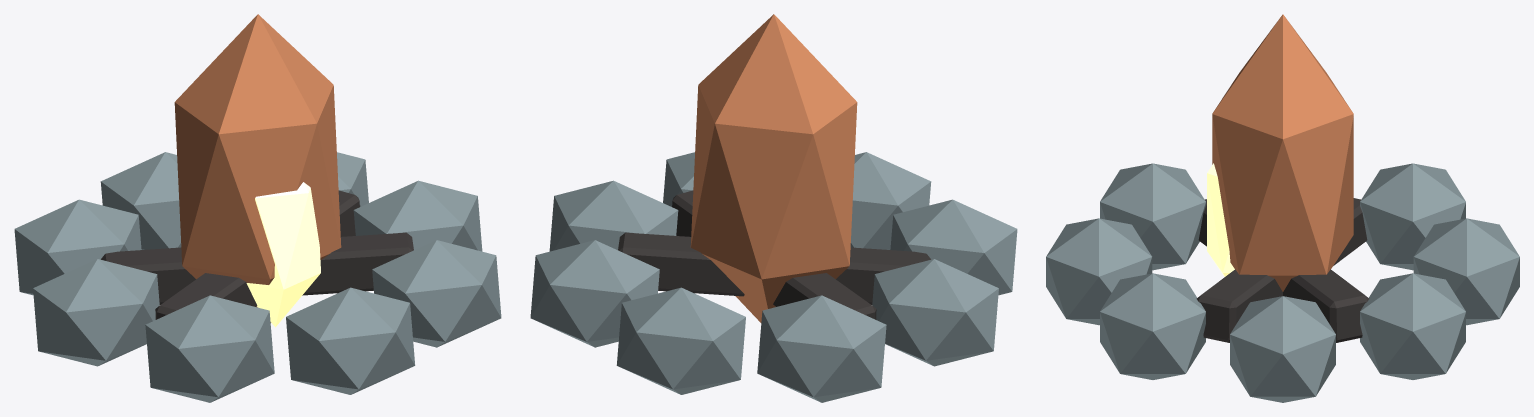
The model's file is campfire.glb.
3 renders of one model, left to right at view 1: azimuth 30°, elevation 25°; view 2: azimuth 150°, elevation 25°; view 3: azimuth 270°, elevation 25°, orthographic.
Visible parts, largest first — view 1: flame, hearth-stone.005, hearth-stone.006, hearth-stone.004, hearth-stone.007, hearth-stone.003, flame-core, hearth-stone, firewood.001, hearth-stone.002, firewood, hearth-stone.001; view 2: flame, hearth-stone.003, hearth-stone.002, hearth-stone.004, hearth-stone.001, hearth-stone.005, firewood, hearth-stone, hearth-stone.006, firewood.001, hearth-stone.007; view 3: flame, hearth-stone, hearth-stone.001, hearth-stone.007, hearth-stone.002, hearth-stone.006, hearth-stone.003, hearth-stone.005, firewood.001, firewood, flame-core.
Boxes of the visible parts, x1=… form: flame: x1=174, y1=14, x2=341, y2=322; hearth-stone.005: x1=145, y1=295, x2=274, y2=402; hearth-stone.006: x1=286, y1=287, x2=415, y2=394; hearth-stone.004: x1=33, y1=259, x2=159, y2=366; hearth-stone.007: x1=372, y1=240, x2=501, y2=347; hearth-stone.003: x1=14, y1=199, x2=141, y2=295; flame-core: x1=246, y1=182, x2=320, y2=327; hearth-stone: x1=353, y1=180, x2=482, y2=251; firewood.001: x1=101, y1=232, x2=413, y2=304; hearth-stone.002: x1=100, y1=152, x2=181, y2=249; firewood: x1=155, y1=190, x2=359, y2=319; hearth-stone.001: x1=337, y1=152, x2=368, y2=206; flame: x1=690, y1=14, x2=857, y2=322; hearth-stone.003: x1=757, y1=295, x2=886, y2=402; hearth-stone.002: x1=616, y1=287, x2=745, y2=394; hearth-stone.004: x1=872, y1=259, x2=998, y2=366; hearth-stone.001: x1=530, y1=240, x2=659, y2=347; hearth-stone.005: x1=890, y1=199, x2=1017, y2=295; firewood: x1=618, y1=232, x2=930, y2=304; hearth-stone: x1=549, y1=180, x2=678, y2=251; hearth-stone.006: x1=850, y1=152, x2=931, y2=249; firewood.001: x1=672, y1=190, x2=876, y2=319; hearth-stone.007: x1=663, y1=152, x2=694, y2=206; flame: x1=1212, y1=14, x2=1353, y2=291; hearth-stone: x1=1230, y1=296, x2=1335, y2=402; hearth-stone.001: x1=1360, y1=273, x2=1465, y2=379; hearth-stone.007: x1=1100, y1=273, x2=1205, y2=379; hearth-stone.002: x1=1413, y1=218, x2=1519, y2=325; hearth-stone.006: x1=1046, y1=218, x2=1152, y2=325; hearth-stone.003: x1=1360, y1=163, x2=1465, y2=270; hearth-stone.005: x1=1100, y1=163, x2=1205, y2=270; firewood.001: x1=1196, y1=198, x2=1367, y2=342; firewood: x1=1198, y1=199, x2=1369, y2=342; flame-core: x1=1207, y1=163, x2=1234, y2=276.
Bounding box in the file's own units: 1.45 × 1.02 × 1.37.
